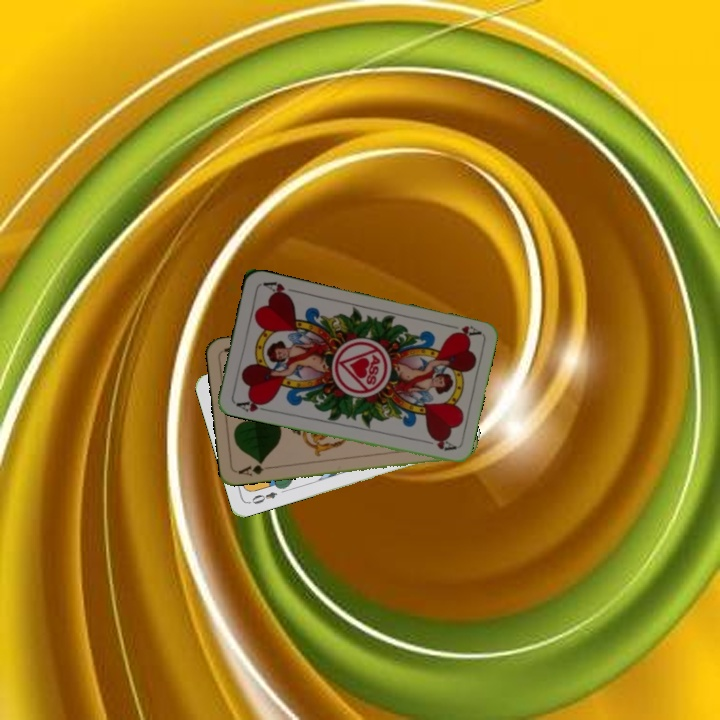EO: (245, 488, 280, 507)
GA: (234, 458, 275, 478)
HA: (232, 394, 272, 414), (442, 320, 482, 340)
